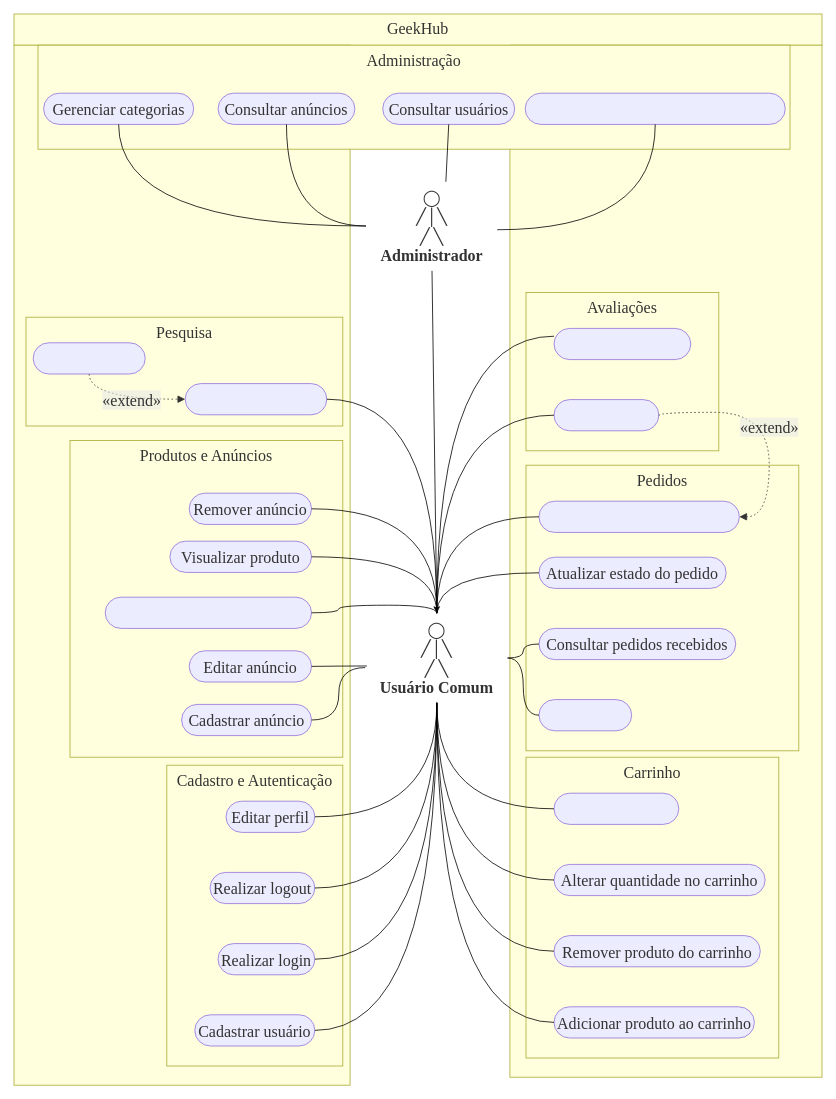
This 836x1099 diagram has some shape labels left out. Each missing label, with the centre of its shape:
"Avaliar compra" belongs at pixel 606 415.
"Consultar anúncios próprios" belongs at pixel 208 612.
"Consultar avaliações" belongs at pixel 622 344.
"Consultar carrinho" belongs at pixel 616 808.
"Consultar pedidos realizados" belongs at pixel 638 516.
"Criar pedido" belongs at pixel 585 715.
"Filtrar produtos" belongs at pixel 88 358.
"Pesquisar produtos" belongs at pixel 255 399.
"Remover anúncio como administrador" belongs at pixel 654 108.
